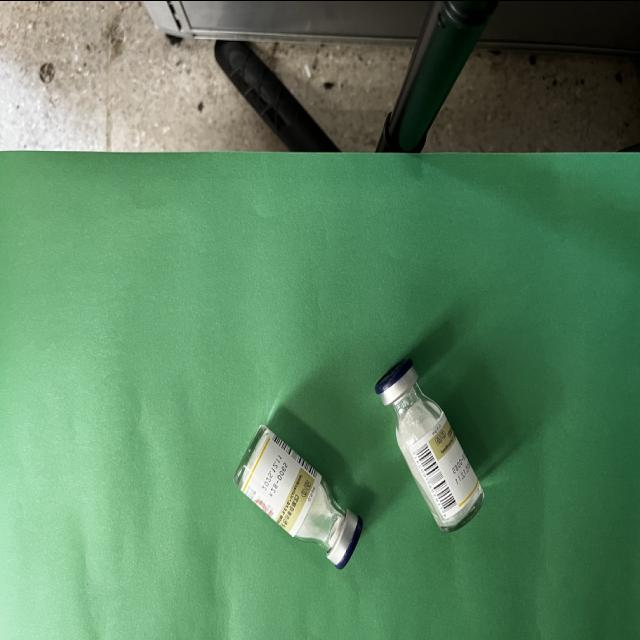Vials: (375, 358, 484, 530), (234, 424, 362, 568)
